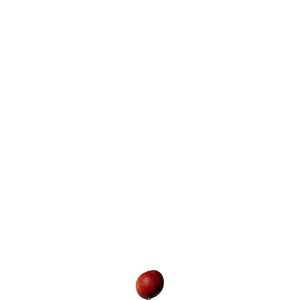nectarina: (135, 273, 164, 300)
